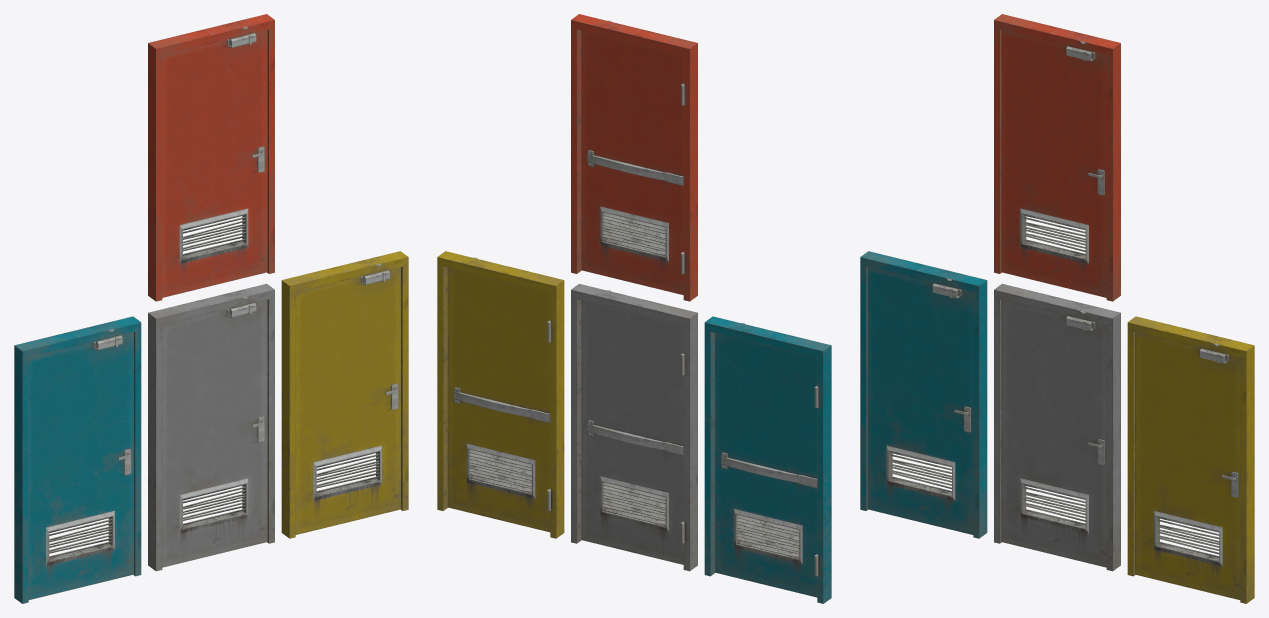
3 views of the same model, side by side, from view 1: azimuth 30°, elevation 25°; view 2: azimuth 150°, elevation 25°; view 3: azimuth 330°, elevation 25° (orthographic).
Parts seen in each view (by area): view 1: SM_Door_F_Yellow.mo, SM_Door_F_Grey.mo, SM_Door_F_Red.mo, SM_Door_F_Blue.mo, SM_Frame_Metal_CBlue.mo, SM_Frame_Metal_CYellow.mo, SM_Frame_Metal_CGrey.mo, SM_Frame_Metal_CRed.mo; view 2: SM_Door_F_Yellow.mo, SM_Door_F_Red.mo, SM_Door_F_Grey.mo, SM_Door_F_Blue.mo, SM_Frame_Metal_CYellow.mo, SM_Frame_Metal_CBlue.mo, SM_Frame_Metal_CRed.mo, SM_Frame_Metal_CGrey.mo; view 3: SM_Door_F_Blue.mo, SM_Door_F_Grey.mo, SM_Door_F_Yellow.mo, SM_Door_F_Red.mo, SM_Frame_Metal_CYellow.mo, SM_Frame_Metal_CBlue.mo, SM_Frame_Metal_CGrey.mo, SM_Frame_Metal_CRed.mo.
Boxes of the visible parts, box(x1,y1,x2,y2) form: SM_Door_F_Yellow.mo: box(295, 267, 400, 534); SM_Door_F_Grey.mo: box(162, 299, 267, 567); SM_Door_F_Red.mo: box(162, 30, 267, 297); SM_Door_F_Blue.mo: box(28, 332, 133, 599); SM_Frame_Metal_CBlue.mo: box(14, 316, 141, 603); SM_Frame_Metal_CYellow.mo: box(281, 251, 408, 538); SM_Frame_Metal_CGrey.mo: box(148, 283, 274, 571); SM_Frame_Metal_CRed.mo: box(148, 14, 274, 301); SM_Door_F_Yellow.mo: box(447, 268, 550, 532); SM_Door_F_Red.mo: box(581, 30, 683, 294); SM_Door_F_Grey.mo: box(581, 300, 683, 564); SM_Door_F_Blue.mo: box(715, 333, 817, 597); SM_Frame_Metal_CYellow.mo: box(437, 251, 564, 538); SM_Frame_Metal_CBlue.mo: box(704, 316, 831, 603); SM_Frame_Metal_CRed.mo: box(571, 14, 697, 301); SM_Frame_Metal_CGrey.mo: box(571, 283, 697, 571); SM_Door_F_Blue.mo: box(867, 267, 973, 534); SM_Door_F_Grey.mo: box(1001, 299, 1106, 567); SM_Door_F_Yellow.mo: box(1135, 332, 1240, 599); SM_Door_F_Red.mo: box(1001, 30, 1106, 297); SM_Frame_Metal_CYellow.mo: box(1127, 316, 1254, 603); SM_Frame_Metal_CBlue.mo: box(860, 251, 987, 538); SM_Frame_Metal_CGrey.mo: box(994, 283, 1120, 571); SM_Frame_Metal_CRed.mo: box(994, 14, 1120, 301).
Bounding box in the file's own units: 4.05 × 5.23 × 0.223.
Materials: 8 (8 with a texture image).
